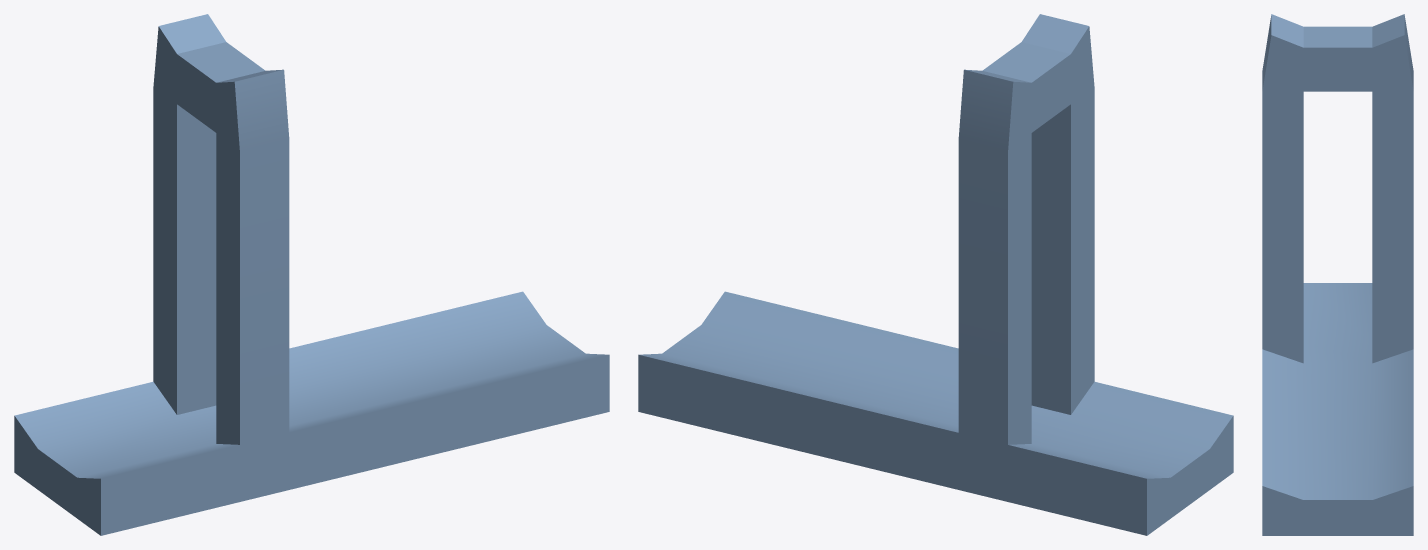
Rendered from ReposadorGanchoC.fbx.
3 renders of one model, left to right at view 1: azimuth 30°, elevation 25°; view 2: azimuth 150°, elevation 25°; view 3: azimuth 270°, elevation 25°, orthographic. The views are drawn at different scales.
Visible parts, largest first — view 1: pCube102; view 2: pCube102; view 3: pCube102.
Boxes of the visible parts, x1,y1,x2,y2 form: pCube102: [14, 14, 609, 535]; pCube102: [638, 14, 1233, 535]; pCube102: [1262, 14, 1413, 535].
Size of the model in its own units: 287 by 225 by 84.54.
